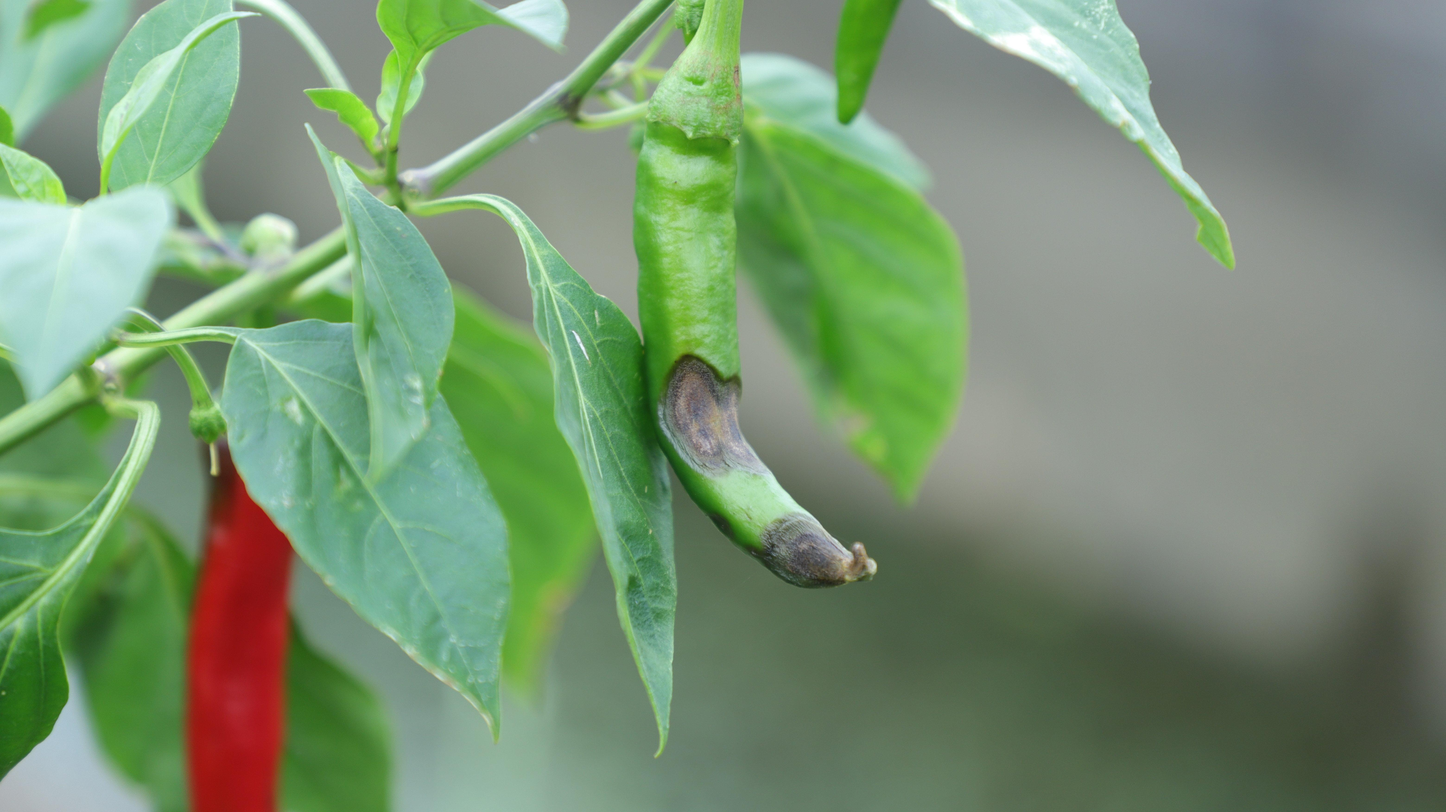Buah Cabai Sehat: (176, 406, 301, 812)
Busuk Buah Antraknosa: (628, 1, 879, 591)
Daun Cabai Sehat: (220, 318, 521, 738), (477, 188, 687, 758), (301, 119, 468, 491), (0, 177, 175, 403)
